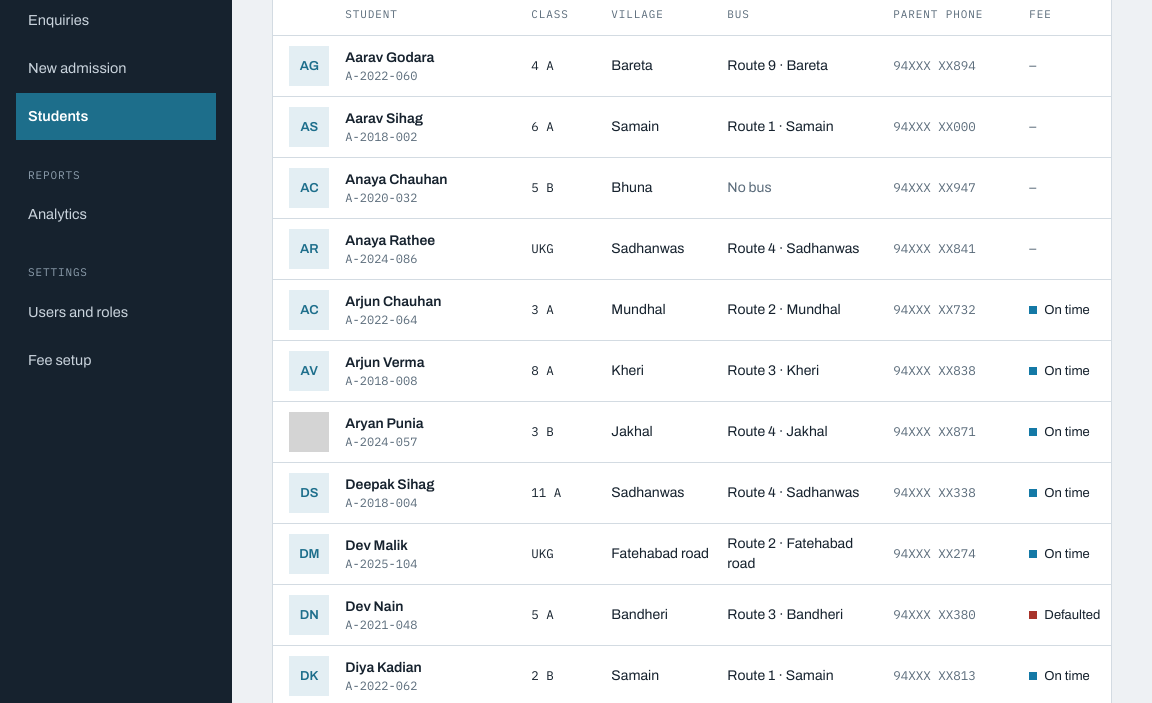
Fee setup › the owner has the menu item and the page
(page scrolled)
Click the link "Fee setup" at (60, 360), box [28,352,92,368]
(page scrolled)
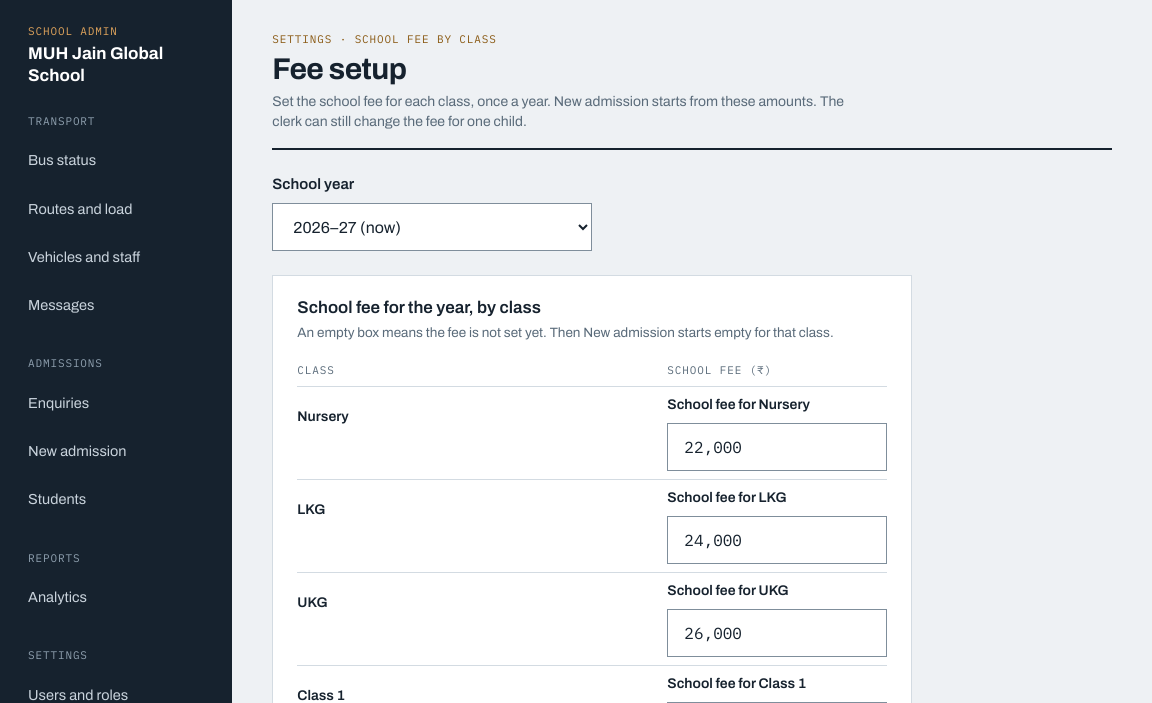
Now the heading "Fee setup" is shown, box [272,53,406,85]
